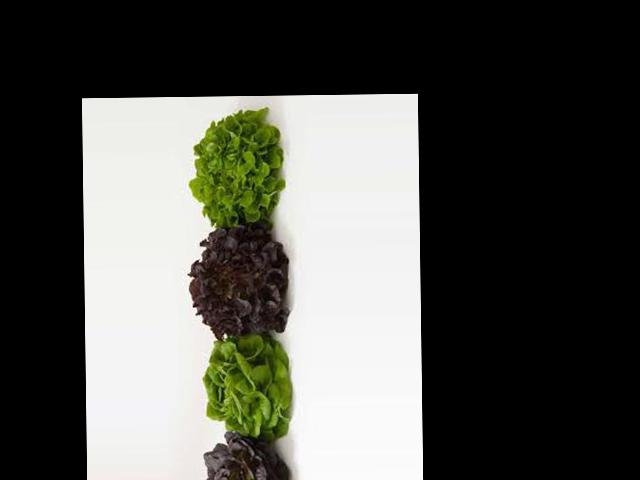lettuce: (207, 335, 294, 432)
